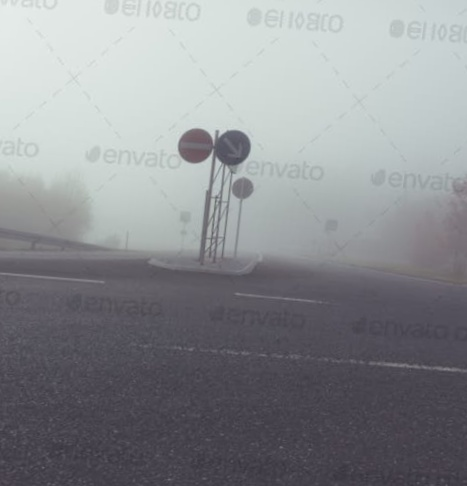Keep right: (213, 125, 257, 169)
No entry: (169, 121, 214, 168)
